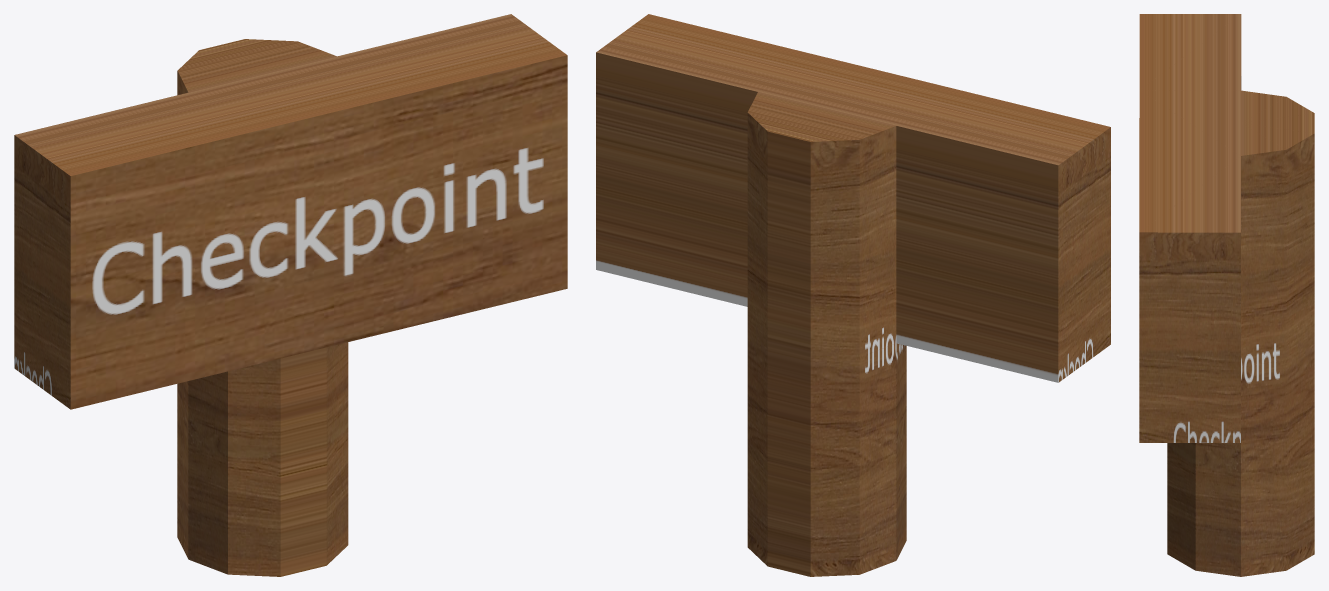
The model's file is checkpost-model.fbx.
The picture shows the model from 3 angles, left to right: view 1: azimuth 30°, elevation 25°; view 2: azimuth 150°, elevation 25°; view 3: azimuth 270°, elevation 25°; orthographic projection. The views are drawn at different scales.
Parts seen in each view (by area): view 1: pCylinder1; view 2: pCylinder1; view 3: pCylinder1.
Boxes of the visible parts, x1,y1,x2,y2 form: pCylinder1: (14, 14, 567, 576); pCylinder1: (596, 14, 1110, 576); pCylinder1: (1139, 14, 1314, 576).
Bounding box in the file's own units: 6.68 × 6 × 2.27.
